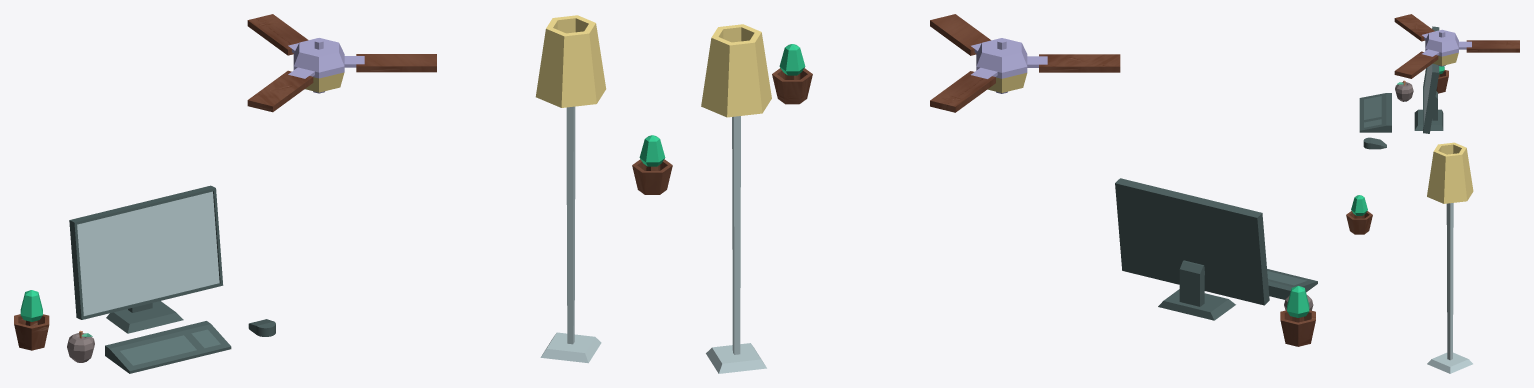
File: Level_0_1_Grabbable.fbx
The picture shows the model from 3 angles, left to right: view 1: azimuth 30°, elevation 25°; view 2: azimuth 150°, elevation 25°; view 3: azimuth 270°, elevation 25°; orthographic projection. The views are drawn at different scales.
Visible parts, largest first — view 1: computerScreen, lampRoundFloor, ceilingFan, computerKeyboard, plantSmall3 (×2), apple; view 2: computerScreen, lampRoundFloor, ceilingFan, plantSmall3 (×2), computerKeyboard; view 3: lampRoundFloor, ceilingFan, computerScreen, computerKeyboard, plantSmall3 (×2), apple, computerMouse.
Part boxes in pixels (<box>): computerScreen: <box>69,185,223,333</box>; lampRoundFloor: <box>535,15,606,363</box>; ceilingFan: <box>247,14,436,112</box>; computerKeyboard: <box>105,321,231,373</box>; plantSmall3 (×2): <box>14,135,672,350</box>; apple: <box>67,330,94,362</box>; computerScreen: <box>1115,178,1269,320</box>; lampRoundFloor: <box>701,24,771,373</box>; ceilingFan: <box>930,14,1120,112</box>; plantSmall3 (×2): <box>772,44,1315,346</box>; computerKeyboard: <box>1267,269,1317,299</box>; lampRoundFloor: <box>1427,142,1473,373</box>; ceilingFan: <box>1394,14,1519,78</box>; computerScreen: <box>1414,26,1443,133</box>; computerKeyboard: <box>1359,93,1391,132</box>; plantSmall3 (×2): <box>1346,66,1448,234</box>; apple: <box>1395,80,1413,101</box>; computerMouse: <box>1363,137,1386,149</box>.
Size of the model in its own units: 16.57 by 10 by 6.32.
10 materials, 1 textured.
